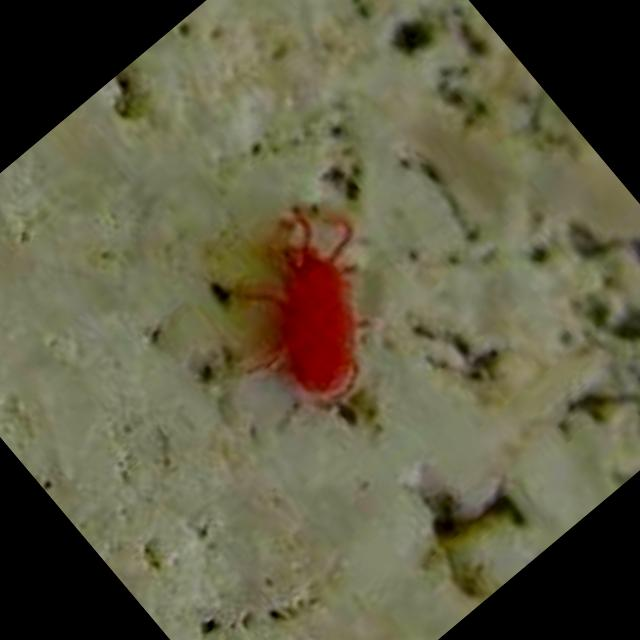spider mite: (136, 128, 516, 506)
